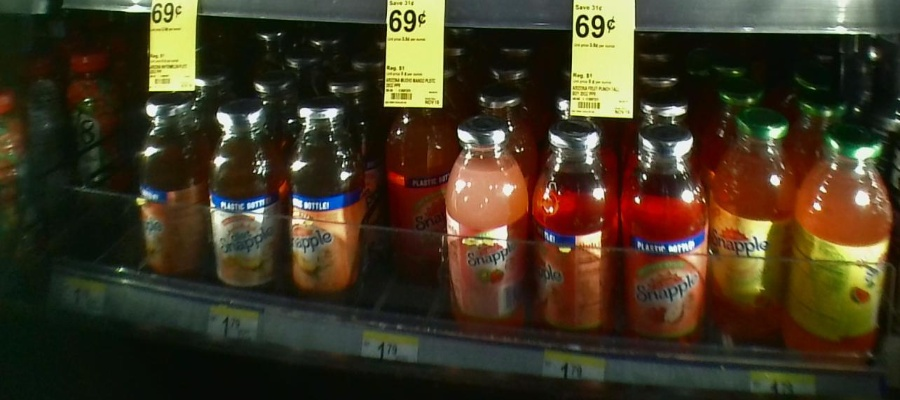bottle: (793, 123, 894, 357), (620, 114, 711, 347), (531, 116, 617, 346), (714, 106, 791, 343), (446, 112, 528, 329), (282, 100, 362, 309), (210, 97, 281, 302), (135, 92, 206, 291), (385, 70, 449, 277)
